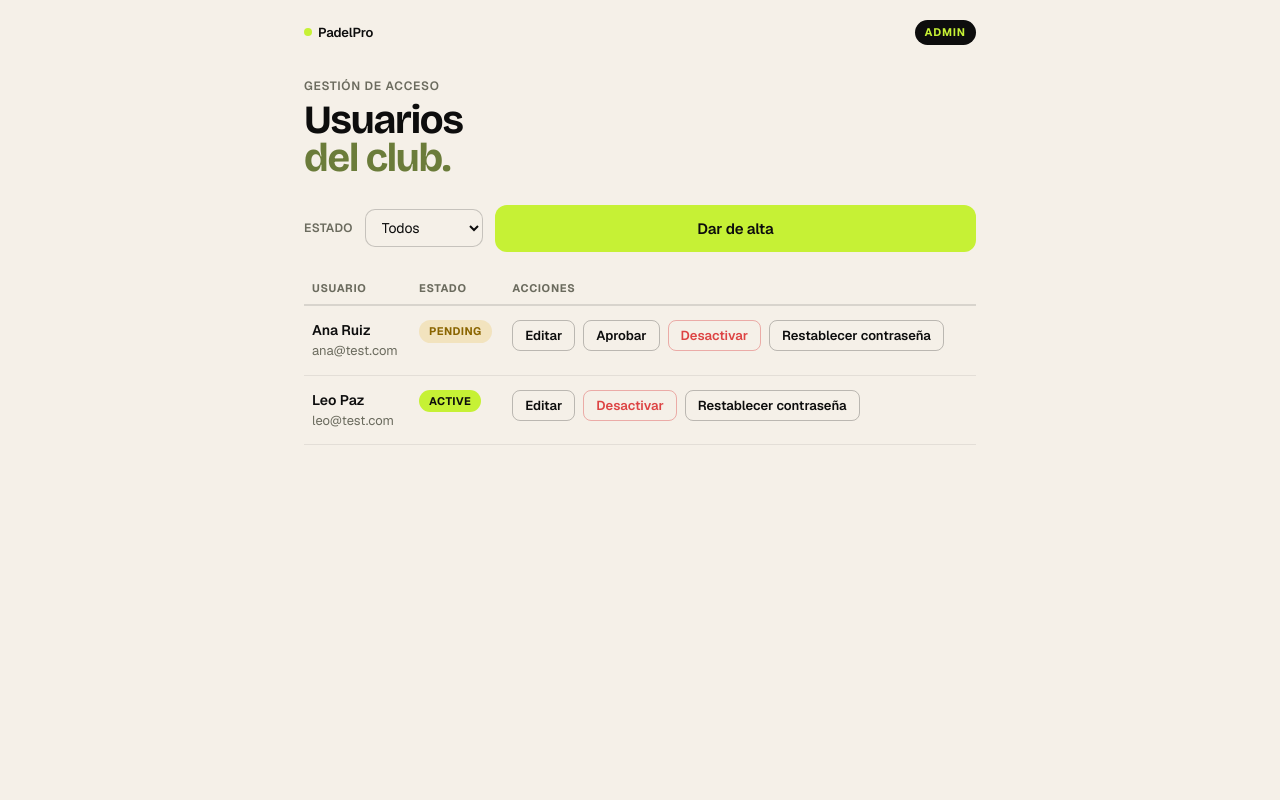
Test case: AdminUsuariosPage — alta de usuario (3.2/3.3) › 3.2 — opens the alta form without a password field and creates + refreshes
Expected: the text "ana@test.com" is shown, [312,341,403,360]
Click the button "Dar de alta".
click(735, 228)  # box [495,204,976,252]
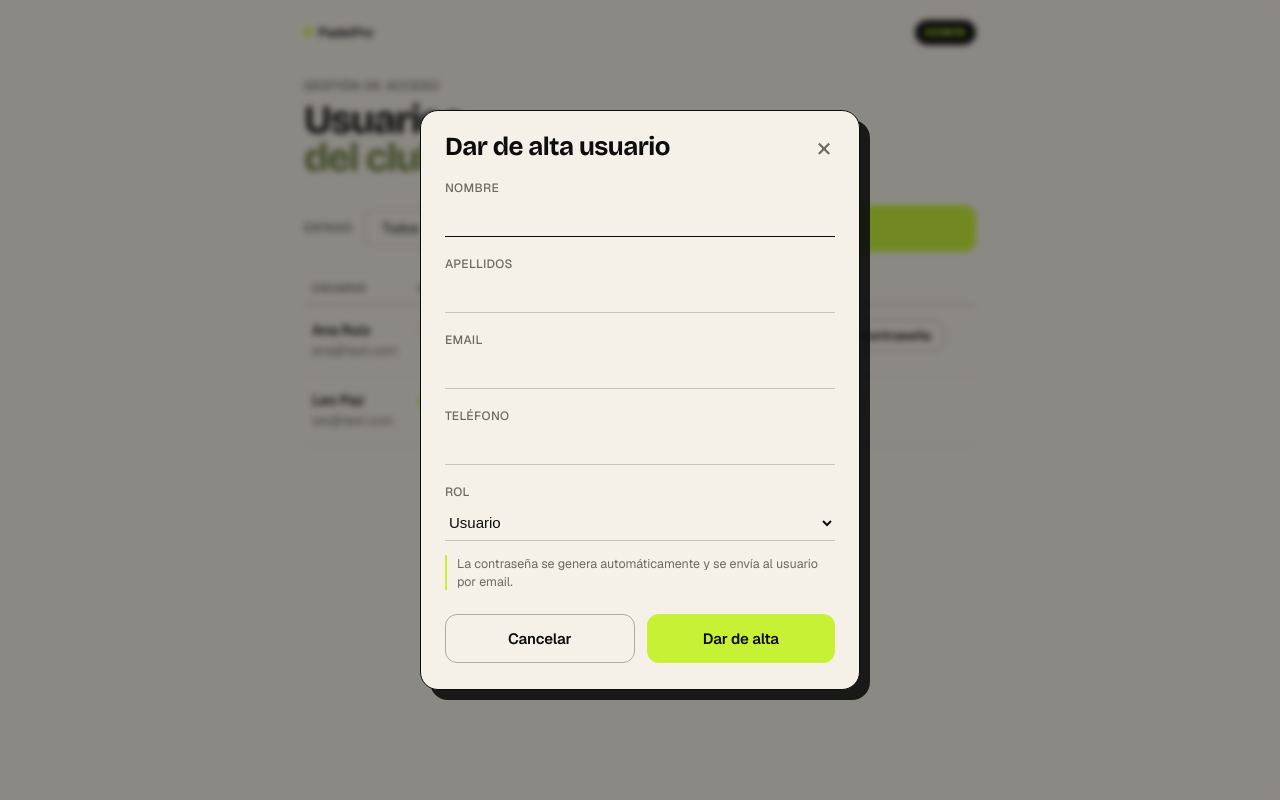
Type "Nuevo" into the field labelled "Nombre".
click(640, 219); type("Nuevo")  # box [445,201,835,237]
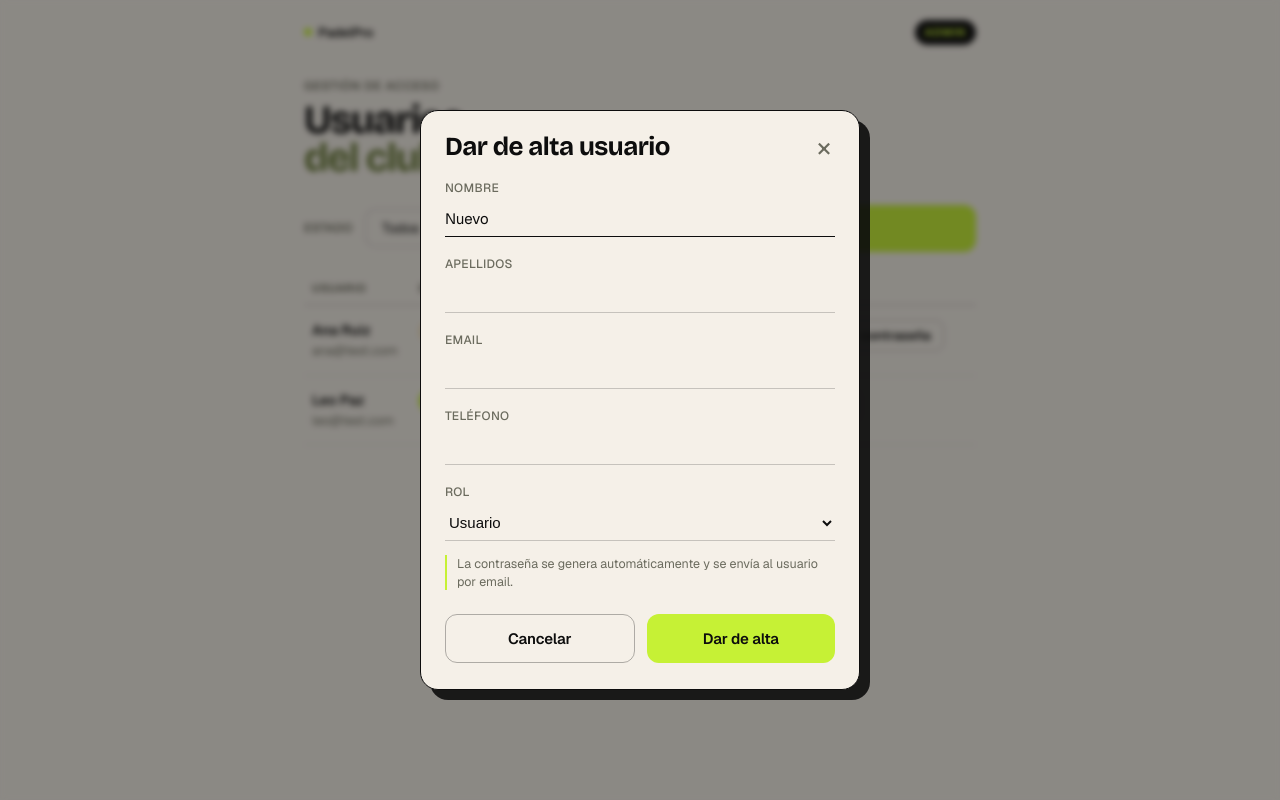
Type "Socio" into the field named "apellidos?".
click(640, 295); type("Socio")  # box [445,277,835,313]
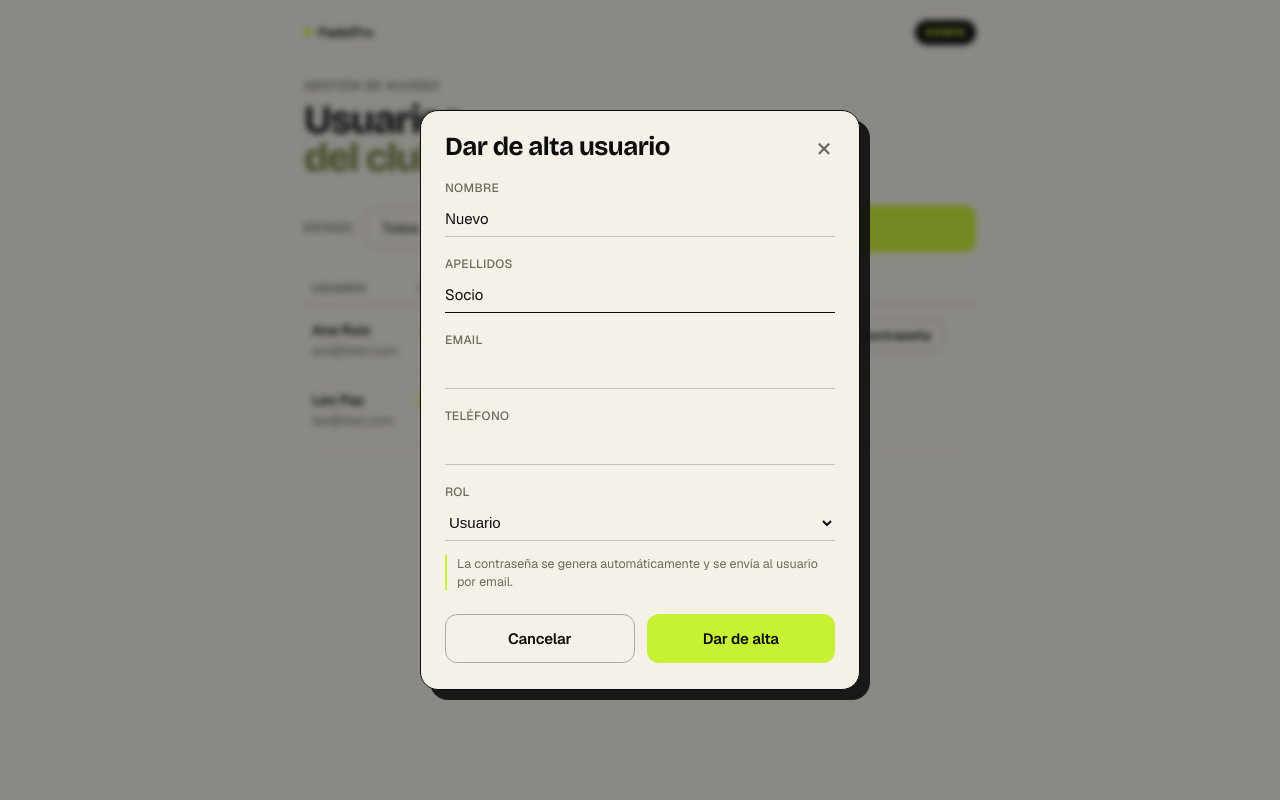
Type "nuevo@test.com" into the field labelled "Email".
click(640, 371); type("nuevo@test.com")  # box [445,353,835,389]
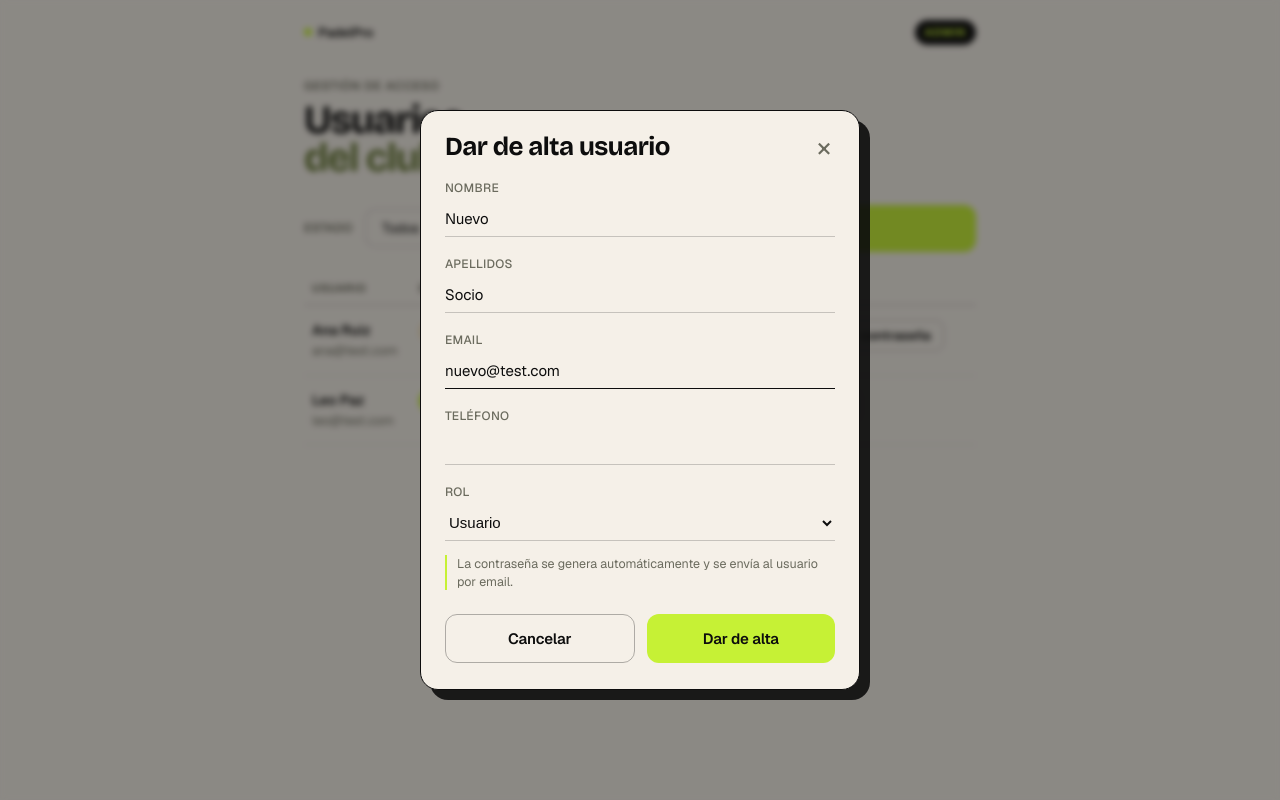
Select "Usuario" in the dropdown labelled "Rol" at [640, 523], box [445,505,835,541]
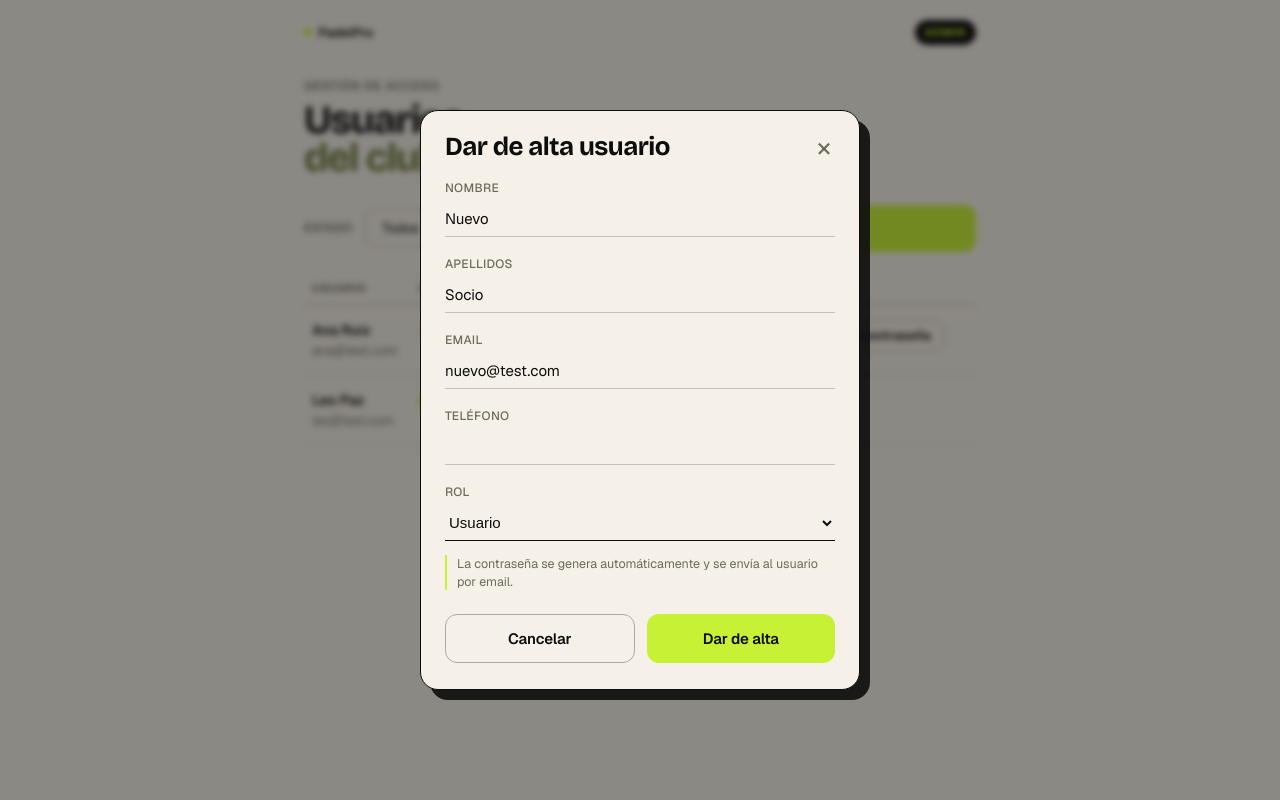
Click the button "Dar de alta".
click(741, 638)  # box [647,614,835,663]
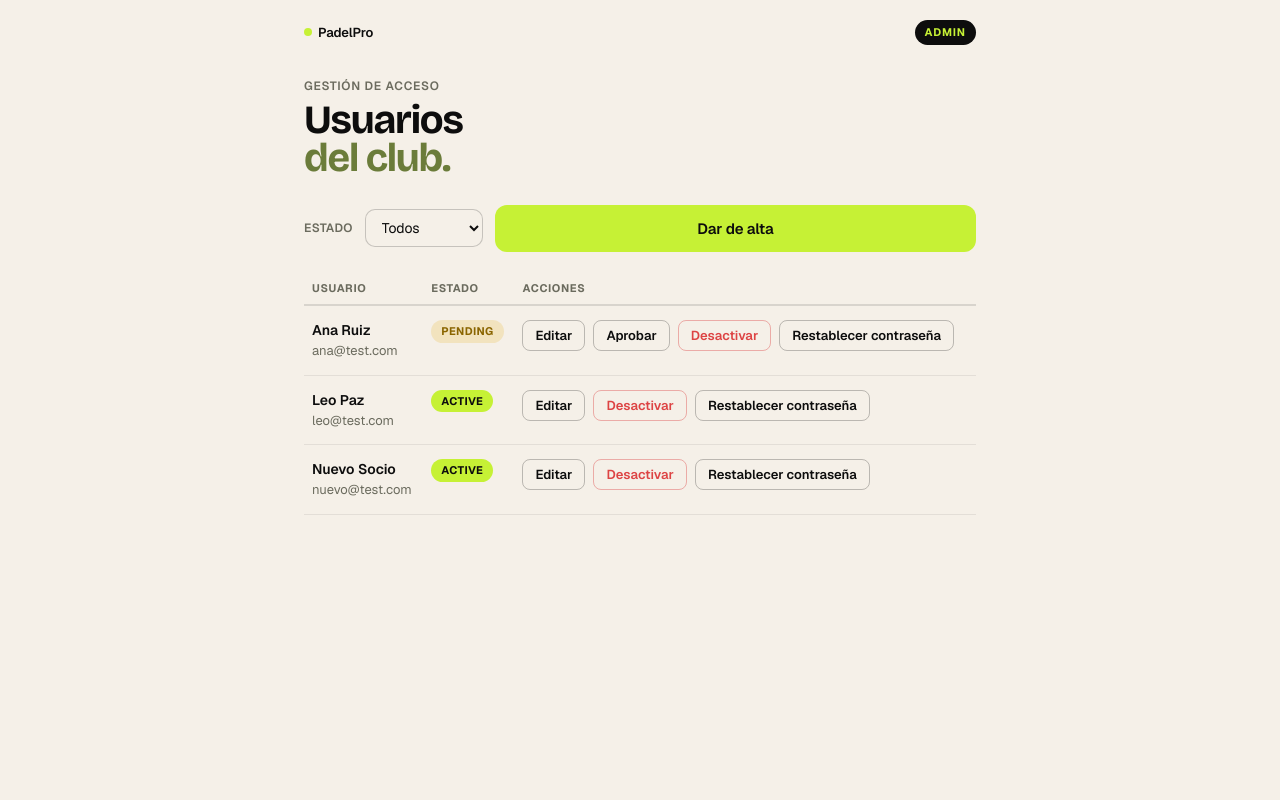
Now the text "nuevo@test.com" is shown, box [312,480,415,500]
